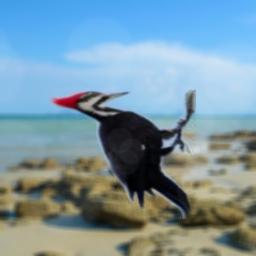Woodpecker: (49, 89, 196, 219)
